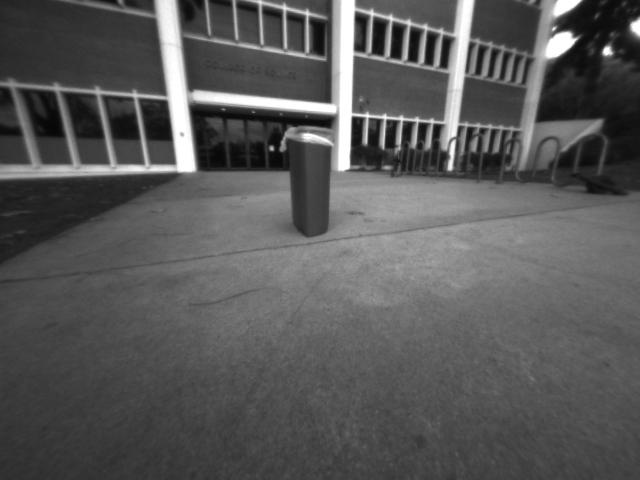trashcan_open: (279, 122, 339, 239)
